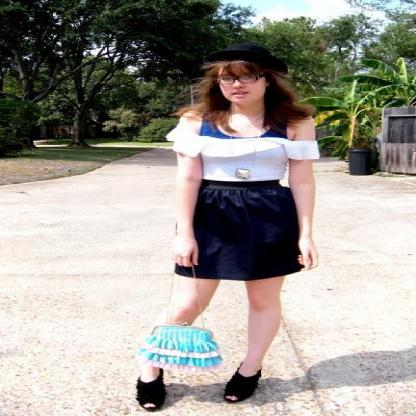bag: (131, 324, 222, 367)
shirt: (163, 119, 320, 187)
shoe: (135, 367, 260, 407)
skirt: (174, 179, 304, 280)
